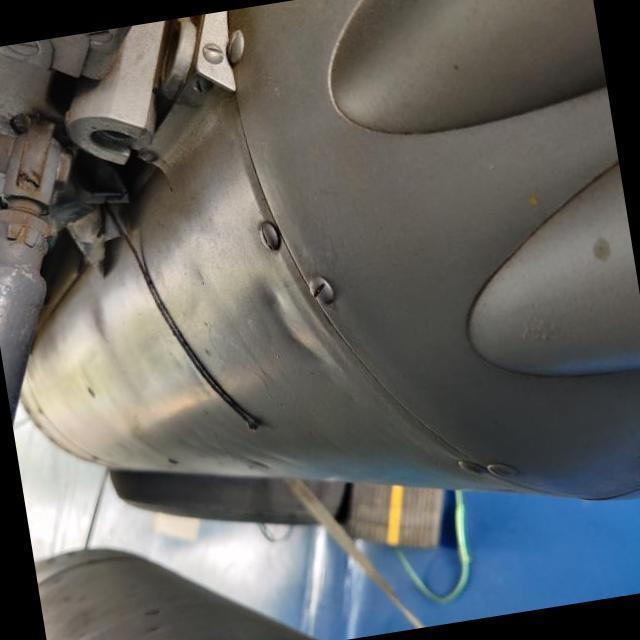dent: (234, 278, 340, 366)
